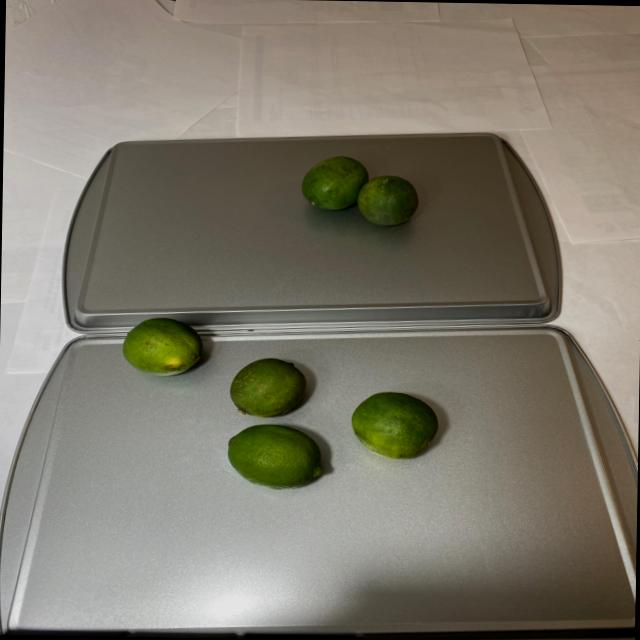lemon: (120, 314, 444, 506), (299, 153, 415, 227)
